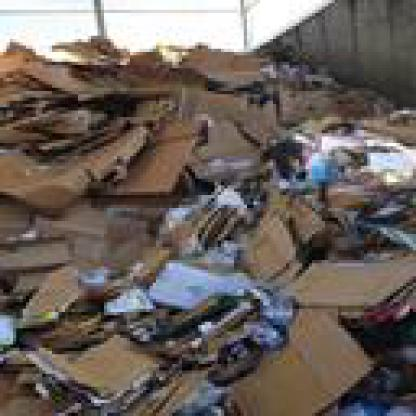CARDBOARD: (0, 26, 413, 413), (0, 94, 150, 205), (231, 312, 380, 413), (146, 81, 276, 179), (0, 35, 202, 98), (0, 202, 150, 283), (260, 114, 413, 192), (22, 331, 162, 403), (88, 114, 198, 192), (72, 211, 166, 299), (270, 257, 412, 312), (140, 292, 250, 358), (318, 182, 413, 254), (270, 72, 386, 130), (159, 192, 244, 266), (169, 42, 289, 88), (126, 254, 240, 302), (338, 341, 413, 413), (208, 318, 286, 384), (98, 367, 202, 413), (289, 113, 413, 150), (13, 256, 81, 322), (13, 306, 114, 348), (0, 361, 81, 413), (253, 189, 325, 247), (244, 208, 296, 280), (48, 33, 124, 65), (172, 377, 228, 413), (306, 188, 367, 212), (0, 296, 20, 354)
